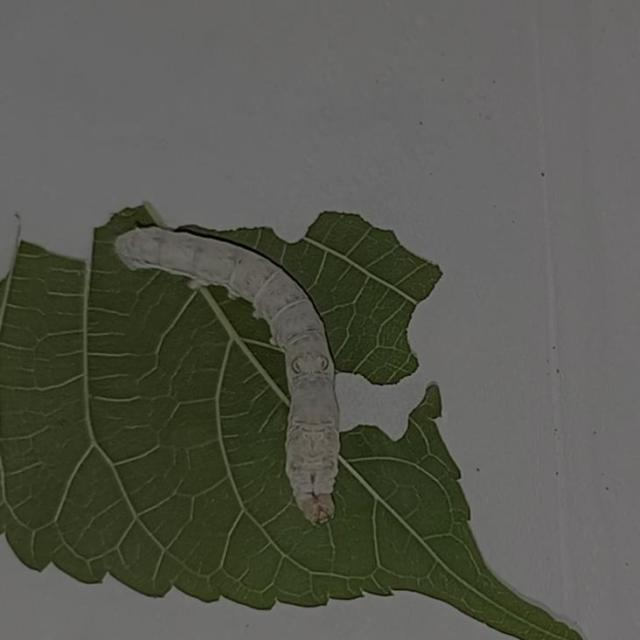Healthy: (95, 203, 377, 539)
